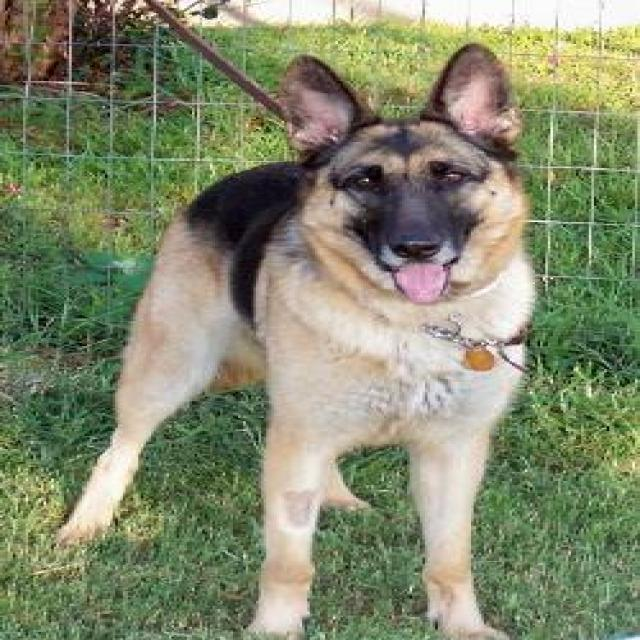dog: (51, 41, 538, 638)
